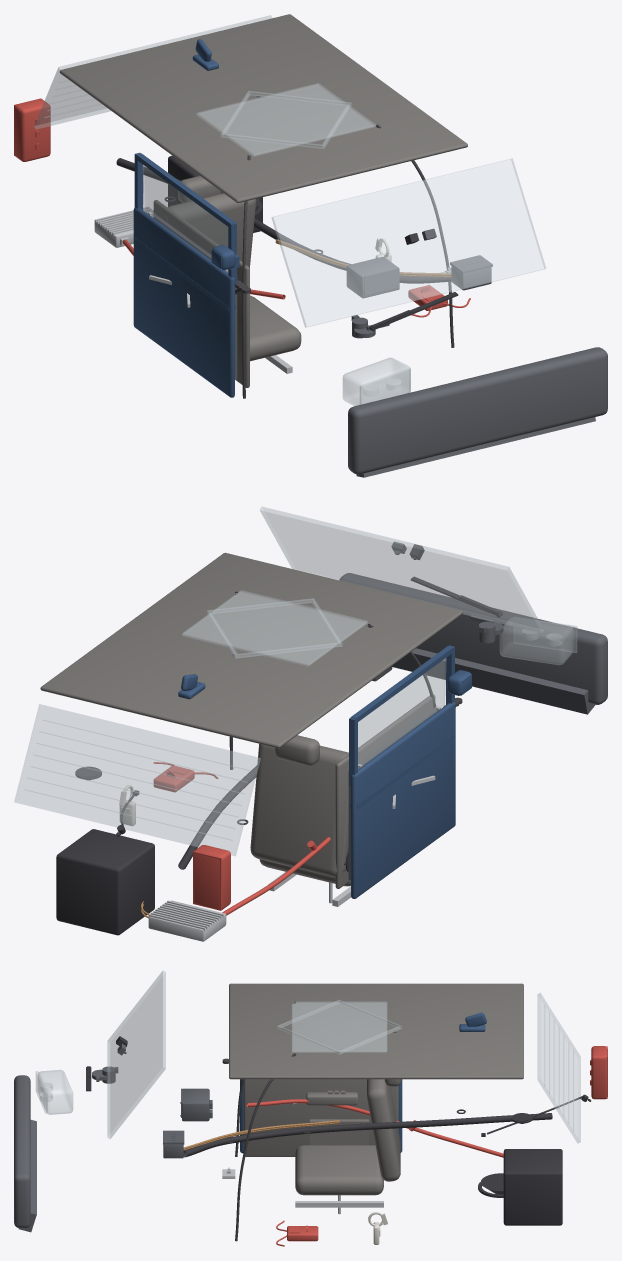
Rendered from aksesuar.glb.
3 views of the same model, one above another, from view 1: azimuth 30°, elevation 25°; view 2: azimuth 150°, elevation 25°; view 3: azimuth 270°, elevation 25° (orthographic). The views are drawn at different scales.
Visible parts, largest first — view 1: tavan_kaplamasi, on_cam, tampon, kapi_saci, sunroof_paneli, koltuk_oturagi, kapi_cami, arka_cam, far_grubu, kapi_ic_dosemesi, stop_lambasi, bas_unite (+6 smaller); view 2: tavan_kaplamasi, arka_cam, kapi_saci, on_cam, tampon, koltuk_oturagi, subwoofer, sunroof_paneli, kapi_cami, far_grubu, kapi_ic_dosemesi, stop_lambasi (+5 smaller); view 3: tavan_kaplamasi, kapi_ic_dosemesi, koltuk_oturagi, on_cam, sunroof_paneli, subwoofer, arka_cam, tampon, ana_kablo_demeti, far_grubu, bas_unite, ses_guc_kablosu (+8 smaller).
Part boxes in pixels (x1,y1,x2,y2): tavan_kaplamasi: (59,14,467,202); on_cam: (271,158,545,327); tampon: (348,347,607,477); kapi_saci: (133,152,236,397); sunroof_paneli: (196,83,376,156); koltuk_oturagi: (162,175,301,361); kapi_cami: (142,165,235,290); arka_cam: (34,15,272,129); far_grubu: (342,357,410,406); kapi_ic_dosemesi: (153,200,249,387); stop_lambasi: (14,98,50,161); bas_unite: (346,257,399,298); tavan_kaplamasi: (40,552,463,748); arka_cam: (14,704,260,856); kapi_saci: (349,645,455,898); on_cam: (260,506,543,633); tampon: (339,573,607,714); koltuk_oturagi: (250,735,350,886); subwoofer: (56,829,154,935); sunroof_paneli: (181,590,367,666); kapi_cami: (358,657,446,768); far_grubu: (499,617,577,665); kapi_ic_dosemesi: (335,694,435,888); stop_lambasi: (193,845,230,910); tavan_kaplamasi: (229,983,523,1079); kapi_ic_dosemesi: (243,1079,398,1156); koltuk_oturagi: (295,1079,401,1195); on_cam: (107,970,165,1138); sunroof_paneli: (277,999,402,1054); subwoofer: (478,1149,562,1225); arka_cam: (537,993,580,1143); tampon: (14,1075,36,1232); ana_kablo_demeti: (183,1109,552,1157); far_grubu: (35,1069,73,1114); bas_unite: (180,1088,212,1121); ses_guc_kablosu: (246,1099,503,1157).
Size of the model in its own units: 1.45 by 1.33 by 3.22.
